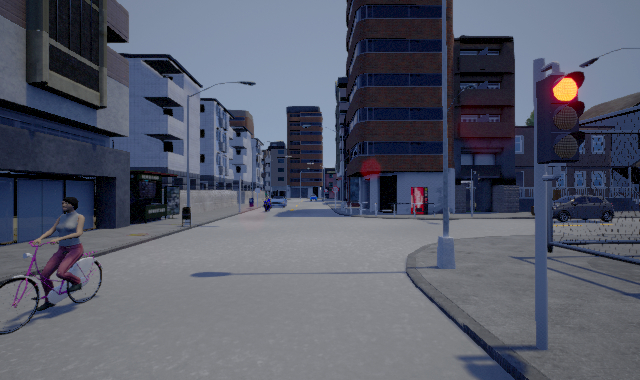bike: (1, 196, 102, 334)
motobike: (262, 196, 273, 212)
traffic_light: (536, 70, 586, 162)
traffic_sign: (332, 186, 339, 193)
vehicle: (553, 195, 614, 222), (266, 193, 288, 211)
